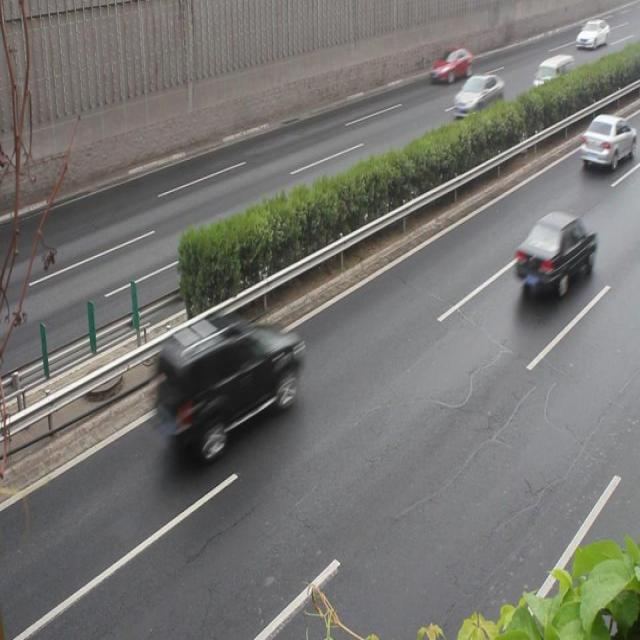car: (153, 314, 301, 458), (514, 212, 595, 300), (578, 114, 632, 168), (452, 74, 503, 122), (429, 45, 471, 87)
